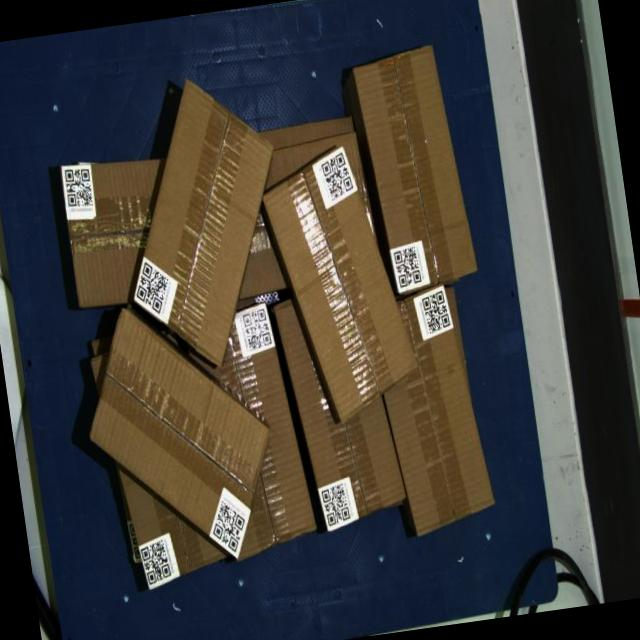box: (72, 288, 288, 578), (104, 66, 304, 378), (256, 137, 426, 431), (352, 43, 479, 297)
